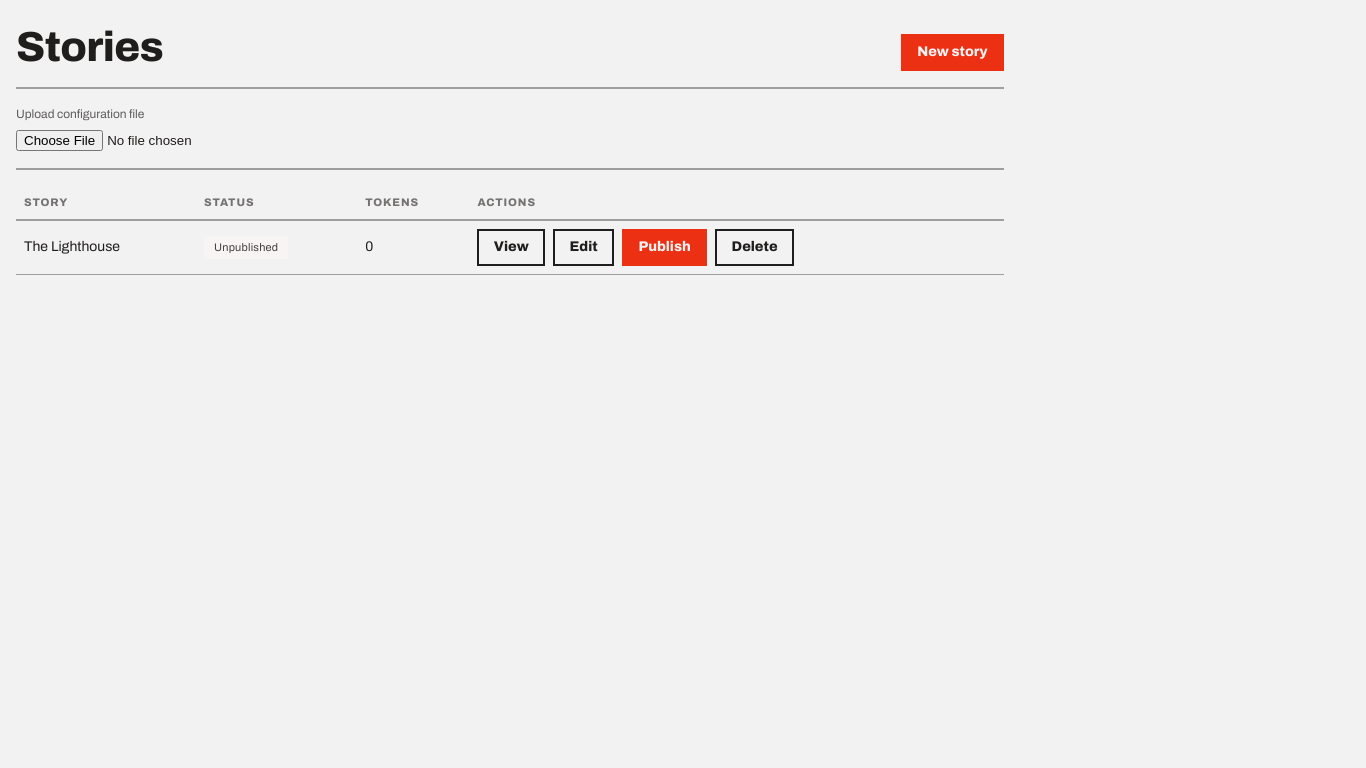
Scenario: Admin stories list delete (025-story-delete-done FR-001, FR-002, FR-012, SC-001, SC-004) › deleting a row removes it from the rendered list in place, with no refetch of the full list
Click the button "Delete": (755, 247) [715,229,794,266]
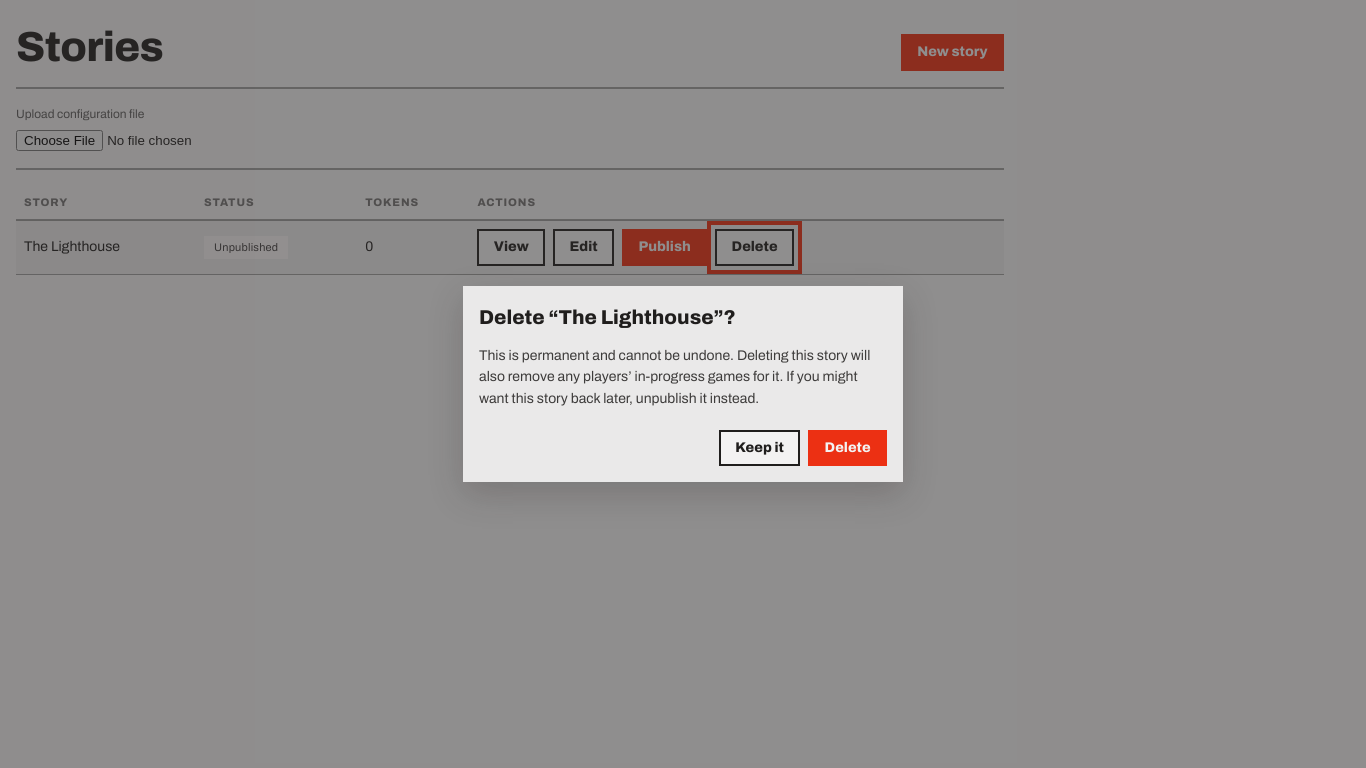
Click the button "Delete" below "Delete “": (848, 448) [808,430,887,466]
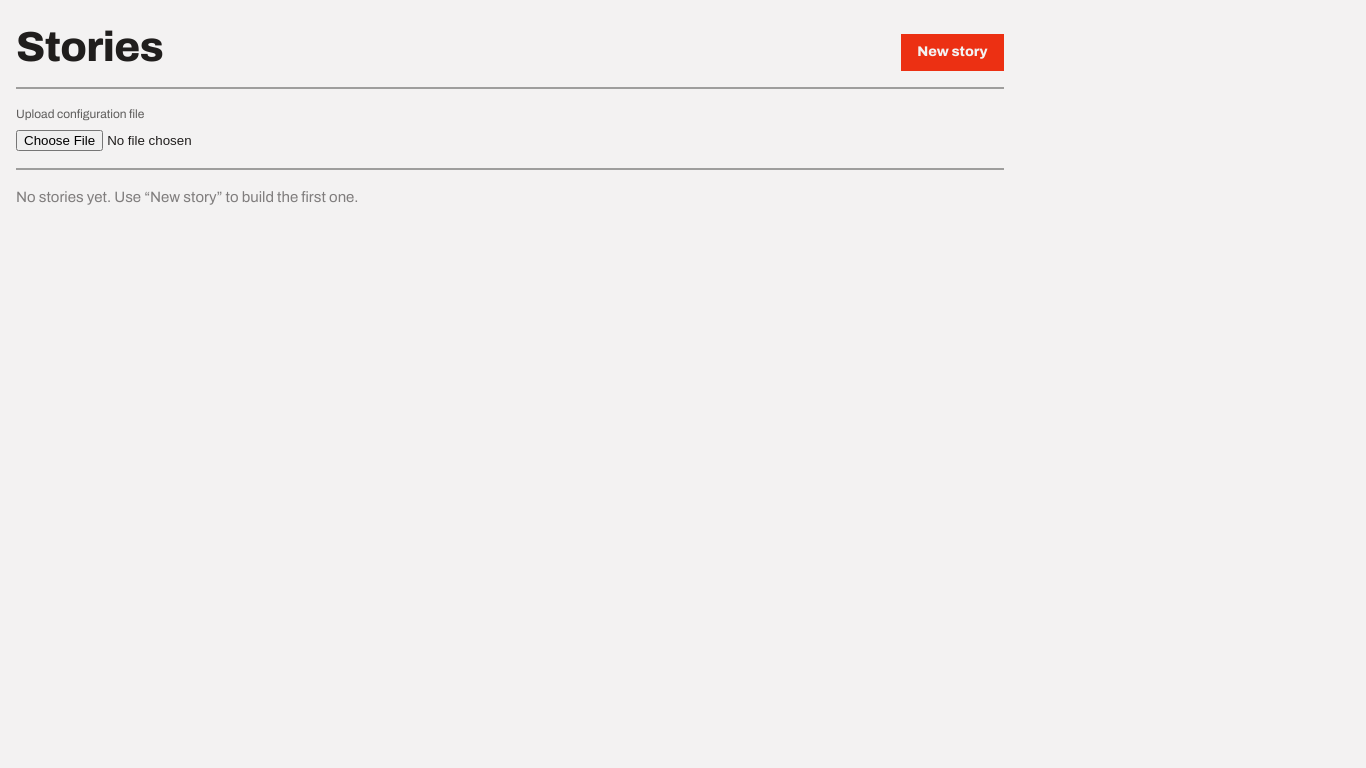
expect the text "The Lighthouse" is gone: met
